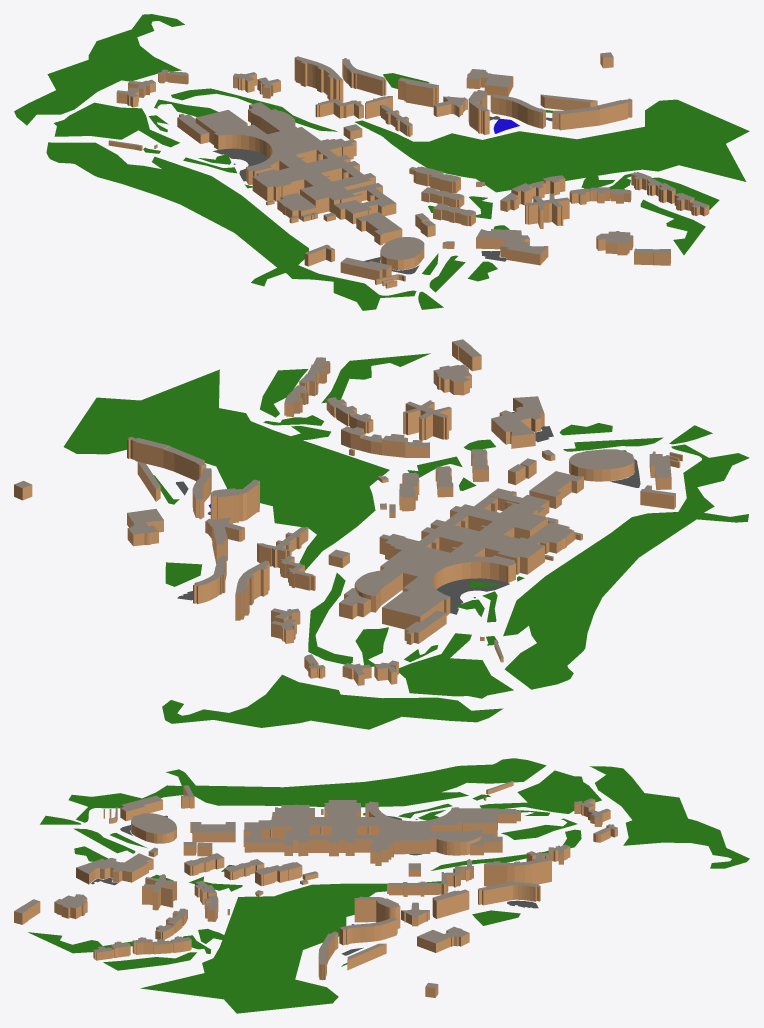
File: HKUST_3D_old.glb
3 views of the same model, one above another, from view 1: azimuth 30°, elevation 25°; view 2: azimuth 150°, elevation 25°; view 3: azimuth 270°, elevation 25° (orthographic). The views are drawn at different scales.
Visible parts, largest first — view 1: map_2.osm_forest, map_2.osm_buildings, map_2.osm_areas_pedestrian; view 2: map_2.osm_forest, map_2.osm_buildings, map_2.osm_areas_pedestrian; view 3: map_2.osm_forest, map_2.osm_buildings.
Boxes of the visible parts, x1=… form: map_2.osm_forest: x1=14, y1=14, x2=749, y2=310; map_2.osm_buildings: x1=108, y1=52, x2=709, y2=288; map_2.osm_areas_pedestrian: x1=213, y1=116, x2=499, y2=274; map_2.osm_forest: x1=63, y1=353, x2=749, y2=729; map_2.osm_buildings: x1=14, y1=339, x2=682, y2=685; map_2.osm_areas_pedestrian: x1=208, y1=459, x2=640, y2=614; map_2.osm_forest: x1=27, y1=758, x2=749, y2=1013; map_2.osm_buildings: x1=14, y1=781, x2=617, y2=997.
Bounding box in the file's own units: 248 × 10.07 × 302.
